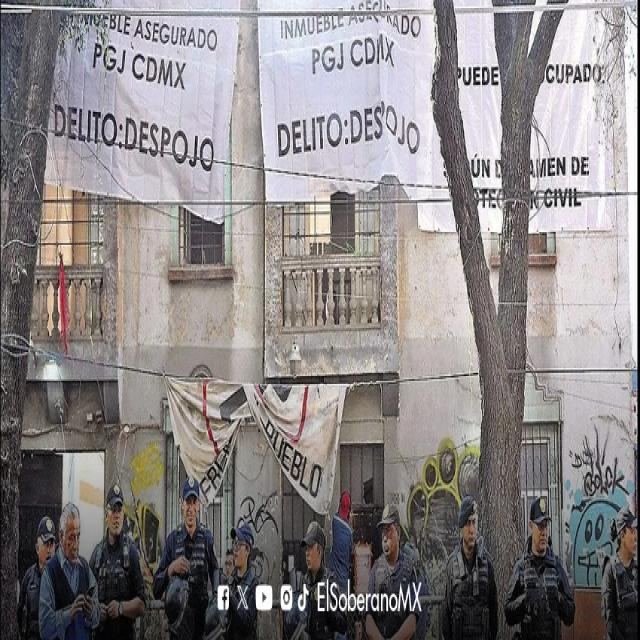stamps: (428, 6, 626, 230), (46, 4, 239, 224), (259, 2, 432, 201)
